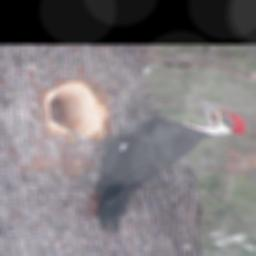Woodpecker: (59, 99, 251, 233)
